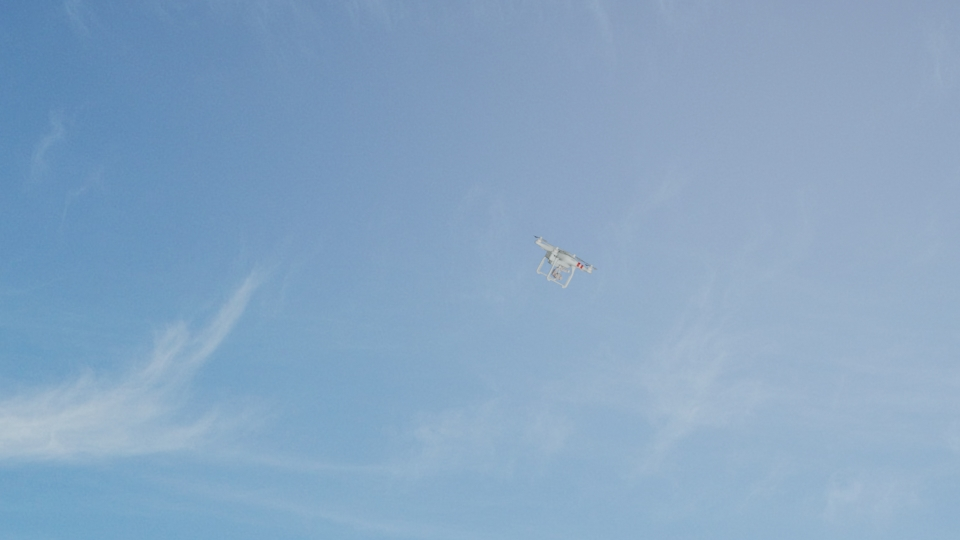drone: (536, 233, 597, 288)
